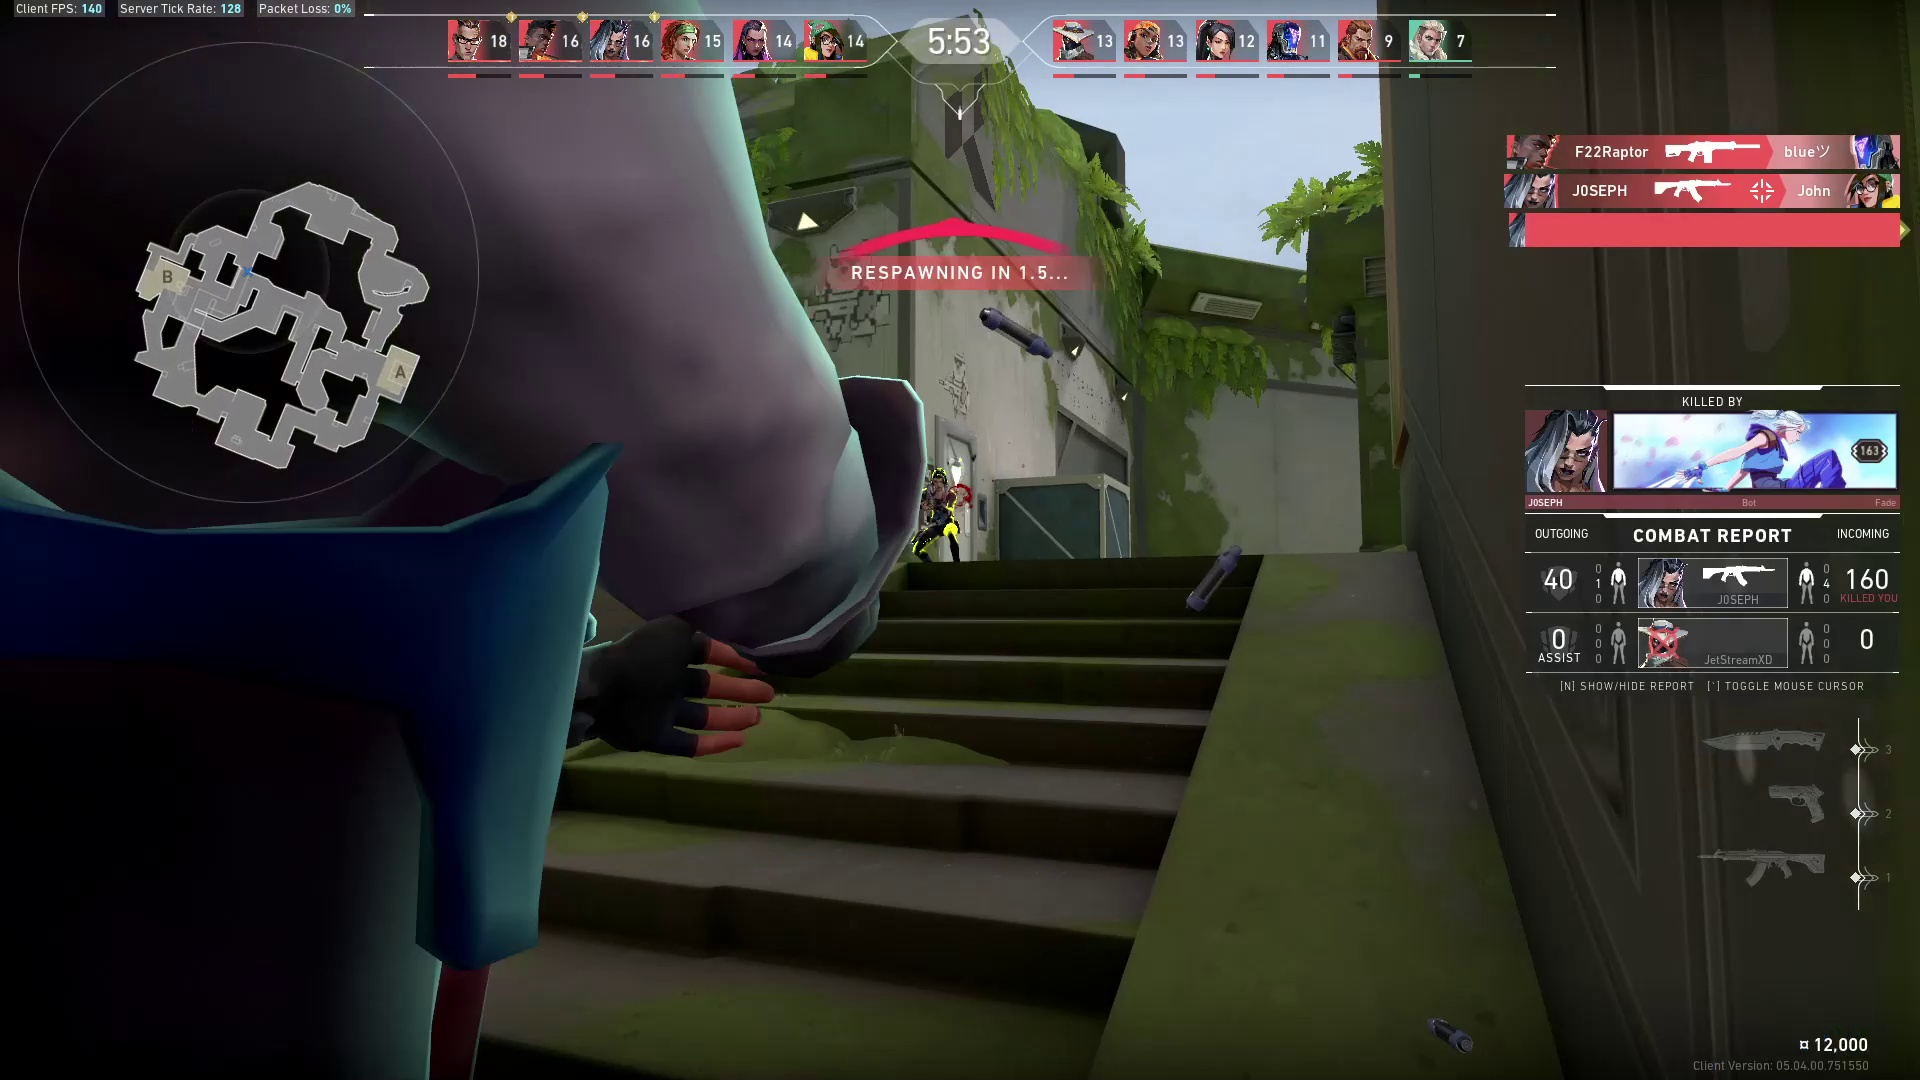enemy_body: (917, 482, 967, 564)
enemy_head: (930, 460, 952, 492)
